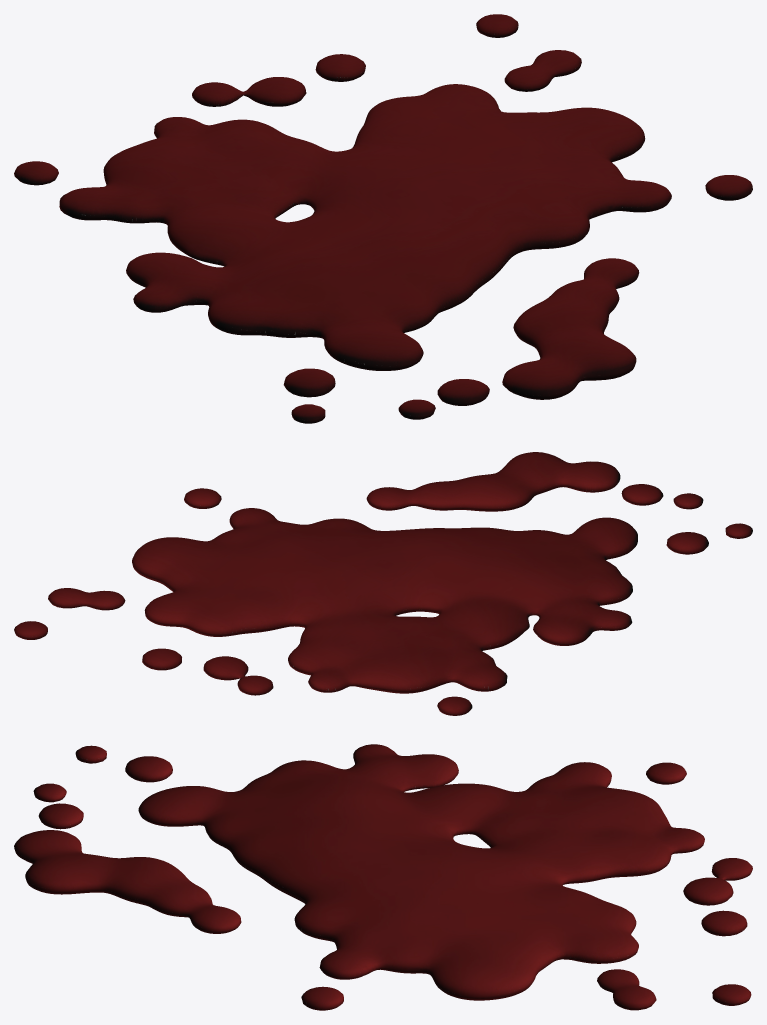
Rendered from sangre.fbx.
3 renders of one model, top to bottom at view 1: azimuth 30°, elevation 25°; view 2: azimuth 150°, elevation 25°; view 3: azimuth 270°, elevation 25°, orthographic. The views are drawn at different scales.
Parts seen in each view (by area): view 1: Remesh; view 2: Remesh; view 3: Remesh.
Part boxes in pixels (box(x1,y1,x2,y2)): Remesh: box(14, 14, 752, 423); Remesh: box(14, 452, 752, 715); Remesh: box(14, 744, 752, 1010).
Size of the model in its own units: 1349 by 109 by 1613.
Materials: 1 (1 with a texture image).
